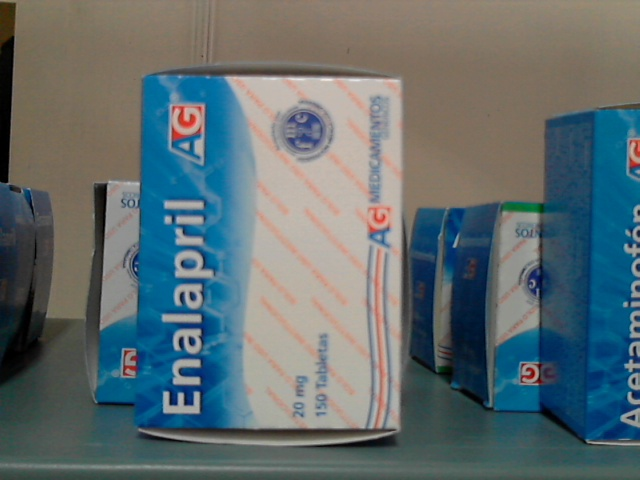AG: (138, 76, 401, 428)
